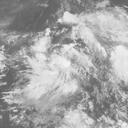cyclone: (45, 47, 80, 80)
